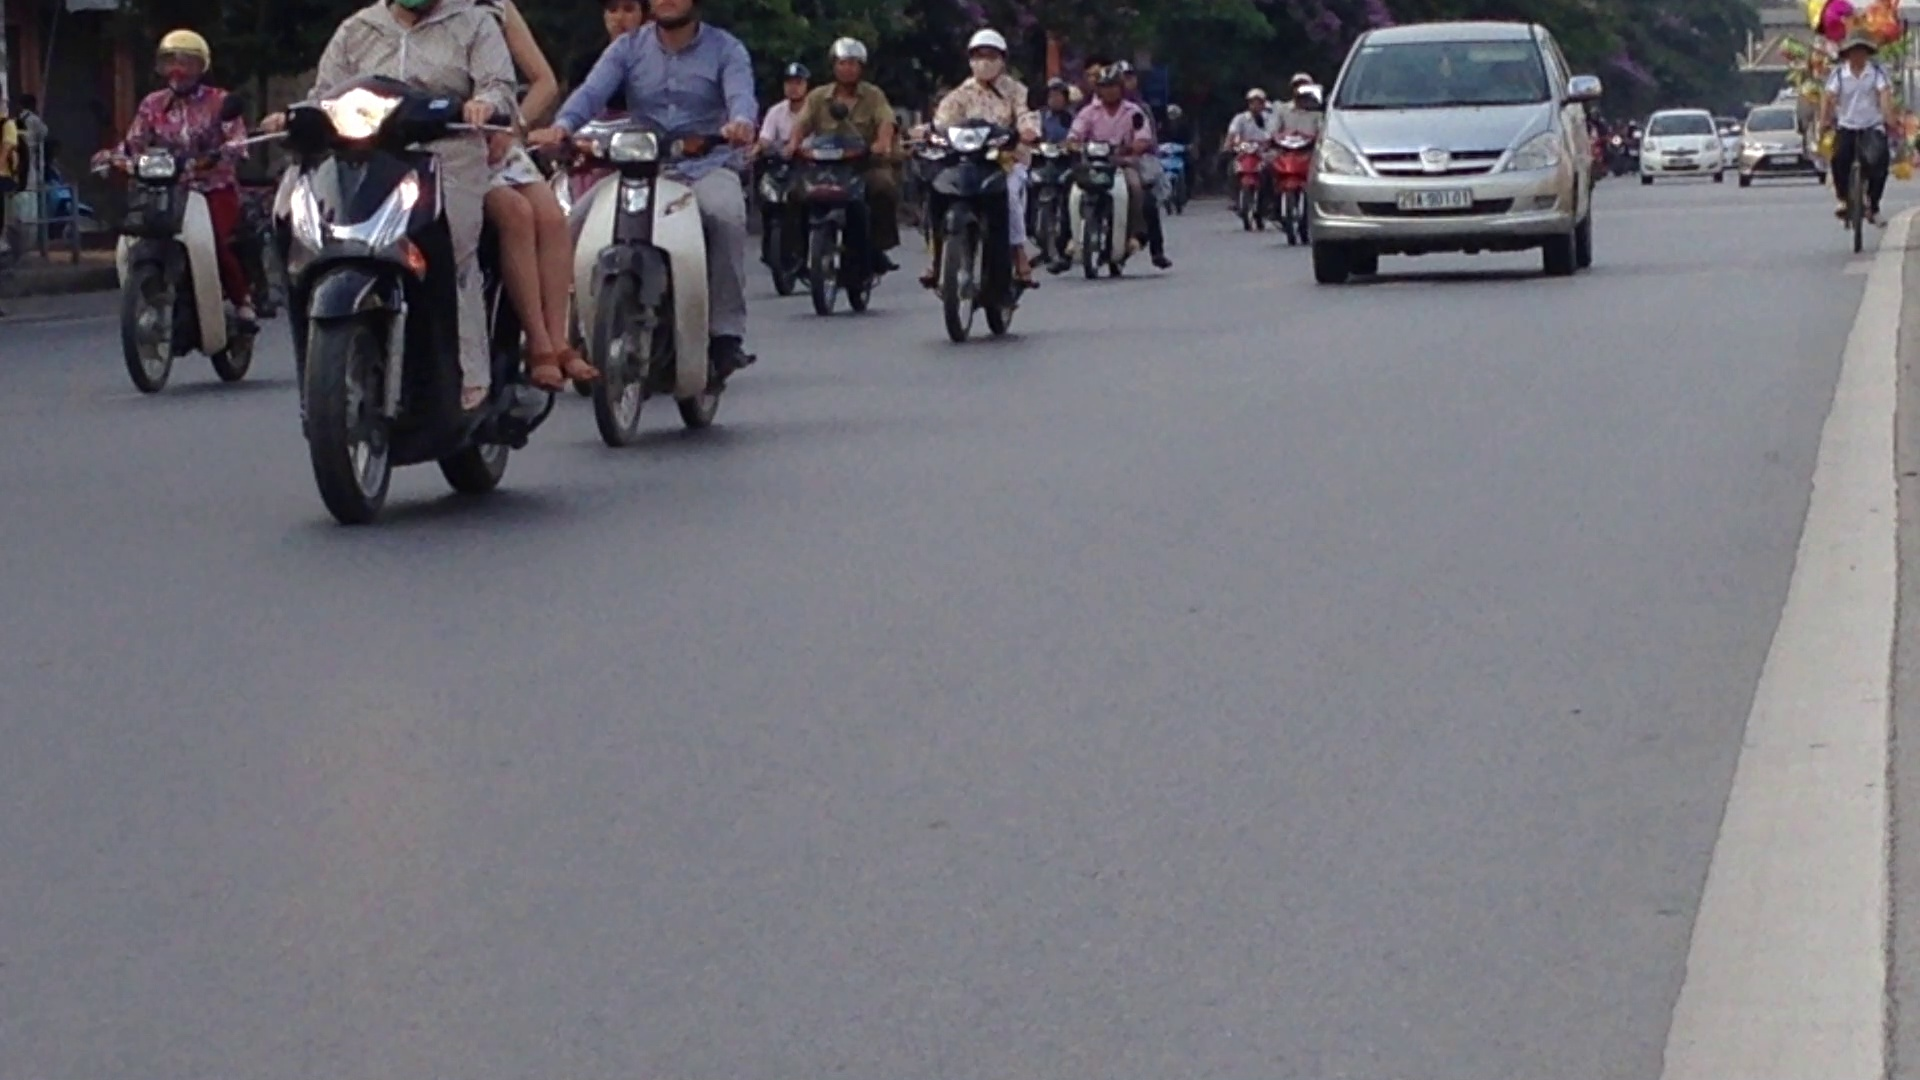person: (1393, 183, 1477, 213)
